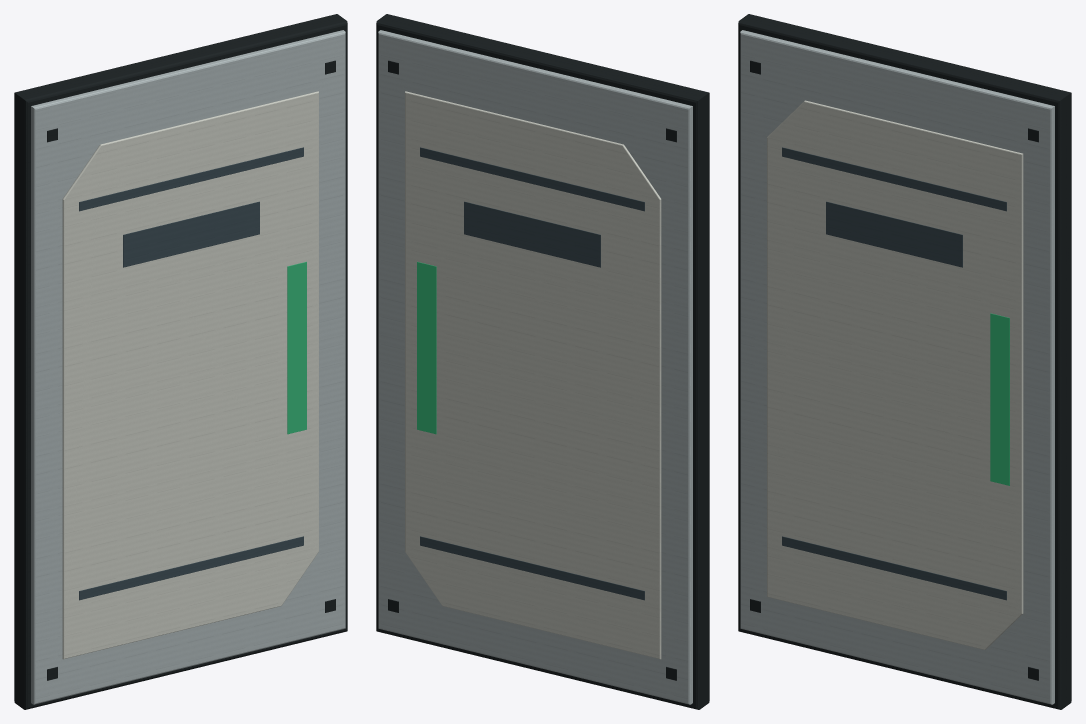
The model's file is genesis-door-leaf.glb.
3 renders of one model, left to right at view 1: azimuth 30°, elevation 25°; view 2: azimuth 150°, elevation 25°; view 3: azimuth 330°, elevation 25°, orthographic.
Visible parts, largest first — view 1: door-leaf__composite, door-leaf__titanium, door-leaf__rubber, door-leaf__graphite, door-leaf__reflection; view 2: door-leaf__composite, door-leaf__titanium, door-leaf__rubber, door-leaf__graphite, door-leaf__reflection; view 3: door-leaf__composite, door-leaf__titanium, door-leaf__rubber, door-leaf__graphite, door-leaf__reflection.
Boxes of the visible parts, bbox=[...] form: door-leaf__composite: bbox=[62, 91, 318, 659]; door-leaf__titanium: bbox=[31, 30, 345, 704]; door-leaf__rubber: bbox=[14, 14, 347, 709]; door-leaf__graphite: bbox=[79, 147, 303, 600]; door-leaf__reflection: bbox=[287, 261, 306, 434]; door-leaf__composite: bbox=[405, 91, 661, 659]; door-leaf__titanium: bbox=[378, 30, 692, 704]; door-leaf__rubber: bbox=[376, 14, 709, 709]; door-leaf__graphite: bbox=[420, 147, 644, 600]; door-leaf__reflection: bbox=[417, 261, 436, 434]; door-leaf__composite: bbox=[767, 100, 1023, 649]; door-leaf__titanium: bbox=[740, 30, 1054, 704]; door-leaf__rubber: bbox=[738, 14, 1071, 709]; door-leaf__graphite: bbox=[782, 147, 1006, 600]; door-leaf__reflection: bbox=[990, 313, 1009, 485].
Size of the model in its own units: 1.65 by 2.98 by 0.19.
5 materials, 4 textured.
